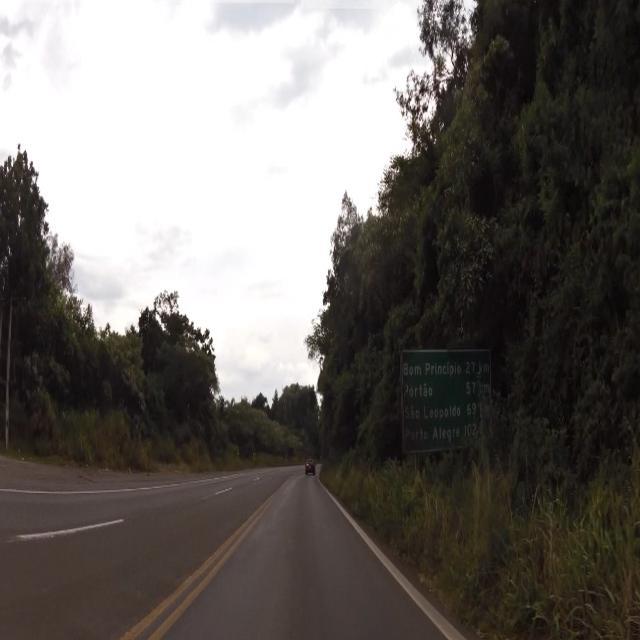I-4: (402, 344, 491, 444)
